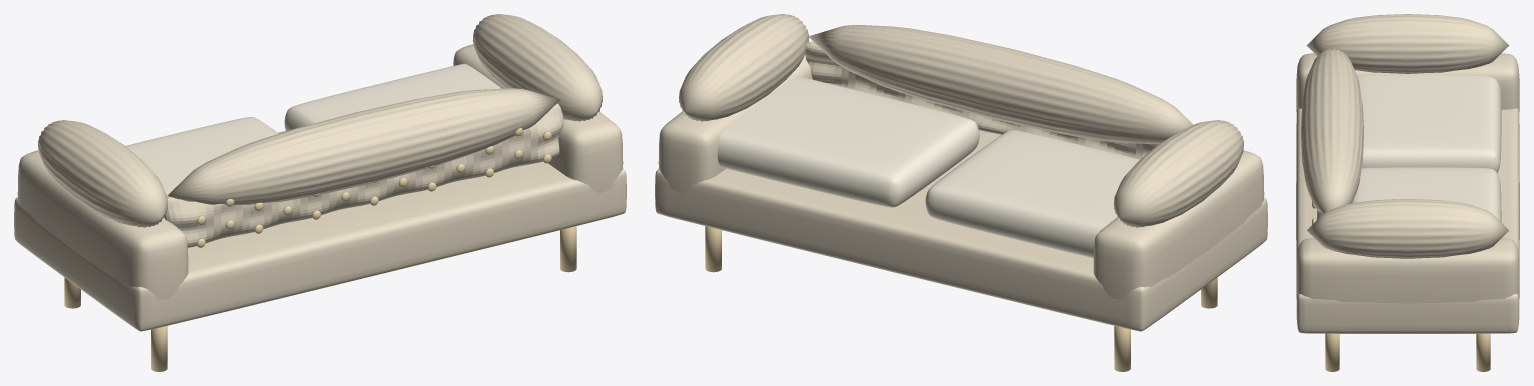
The model's file is sofa.glb.
The picture shows the model from 3 angles, left to right: view 1: azimuth 30°, elevation 25°; view 2: azimuth 150°, elevation 25°; view 3: azimuth 270°, elevation 25°; orthographic projection. The views are drawn at different scales.
Visible parts, largest first — view 1: base, backroll, armbody, back, arm, arm.001, cushion.001, armbody.001, cushion, leg, leg.002; view 2: base, backroll, cushion.001, cushion, armbody, arm, arm.001, armbody.001, back, leg.001, leg.003; view 3: cushion, base, armbody.001, arm.001, arm, backroll, cushion.001, armbody, leg.002, leg.003.
Boxes of the visible parts, left/top/right/bottom form: base: left=14, top=130, right=626, bottom=331; backroll: left=167, top=88, right=559, bottom=205; armbody: left=17, top=150, right=188, bottom=299; back: left=165, top=103, right=563, bottom=247; arm: left=38, top=120, right=167, bottom=227; arm.001: left=473, top=14, right=602, bottom=121; cushion.001: left=284, top=63, right=501, bottom=131; armbody.001: left=453, top=44, right=623, bottom=192; cushion: left=126, top=117, right=278, bottom=197; leg: left=151, top=326, right=167, bottom=371; leg.002: left=560, top=226, right=576, bottom=272; base: left=655, top=130, right=1267, bottom=331; backroll: left=808, top=25, right=1193, bottom=143; cushion.001: left=717, top=77, right=979, bottom=207; cushion: left=925, top=130, right=1139, bottom=257; armbody: left=1093, top=150, right=1264, bottom=299; arm: left=1114, top=120, right=1243, bottom=227; arm.001: left=679, top=14, right=808, bottom=121; armbody.001: left=658, top=55, right=812, bottom=192; back: left=805, top=41, right=1159, bottom=159; leg.001: left=1114, top=326, right=1130, bottom=371; leg.003: left=705, top=226, right=721, bottom=272; cushion: left=1357, top=75, right=1501, bottom=172; base: left=1296, top=108, right=1519, bottom=333; armbody.001: left=1296, top=238, right=1519, bottom=303; arm.001: left=1307, top=199, right=1508, bottom=258; arm: left=1306, top=14, right=1509, bottom=73; backroll: left=1300, top=48, right=1363, bottom=213; cushion.001: left=1352, top=167, right=1501, bottom=222; armbody: left=1296, top=53, right=1519, bottom=111; leg.002: left=1325, top=333, right=1339, bottom=371; leg.003: left=1476, top=333, right=1490, bottom=371.
Size of the model in its own units: 1.92 by 0.7517 by 0.8593.
